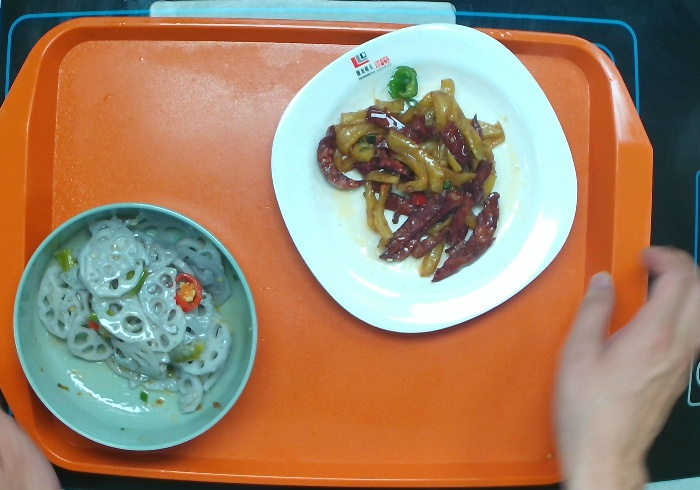ZNLD-Qing_Hua_Yuan_Wan: (1, 196, 273, 466)
ZNLD-Yuan_Jiao_Pan: (268, 19, 586, 344)
